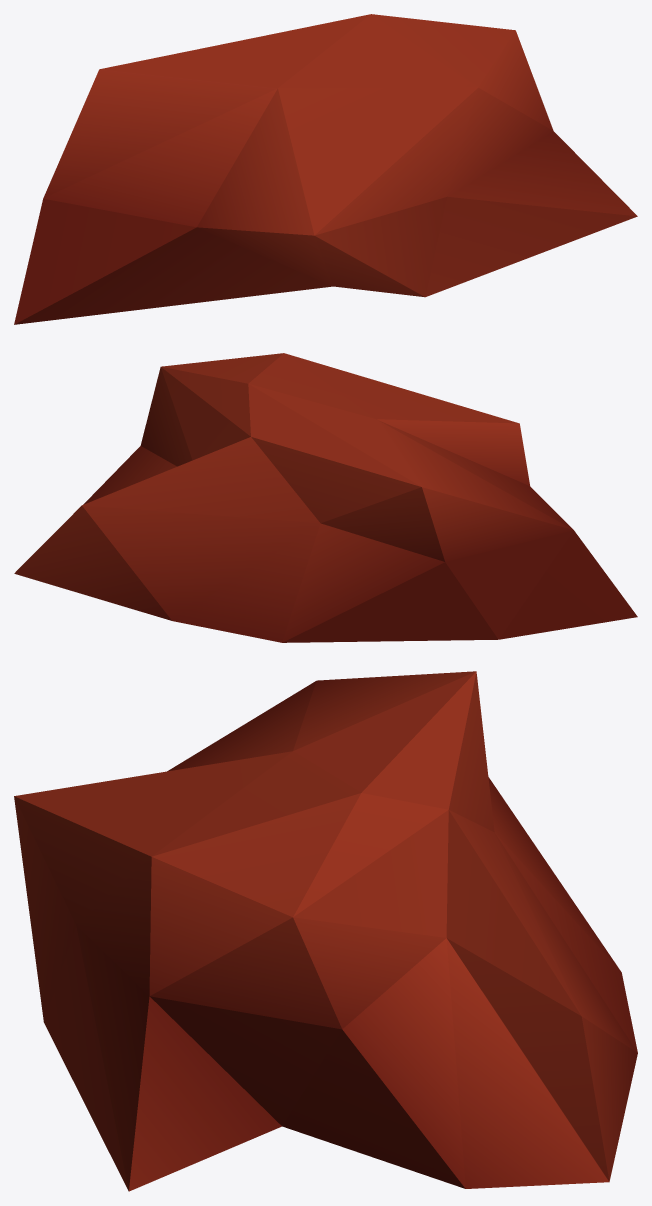
Rendered from debris2.FBX.
The picture shows the model from 3 angles, top to bottom: view 1: azimuth 30°, elevation 25°; view 2: azimuth 150°, elevation 25°; view 3: azimuth 270°, elevation 25°; orthographic projection. The views are drawn at different scales.
Visible parts, largest first — view 1: debris1; view 2: debris1; view 3: debris1.
Boxes of the visible parts, <box> form: debris1: <box>14,14,637,324</box>; debris1: <box>14,353,637,642</box>; debris1: <box>14,671,637,1191</box>.
Size of the model in its own units: 40.93 by 12.7 by 26.68.
